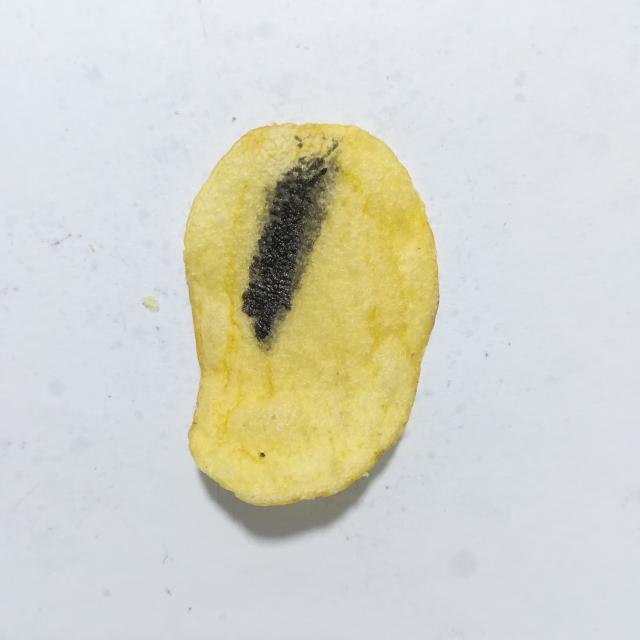chip: (184, 124, 438, 505)
damaged: (242, 140, 339, 350), (295, 136, 303, 149), (259, 452, 265, 457)
